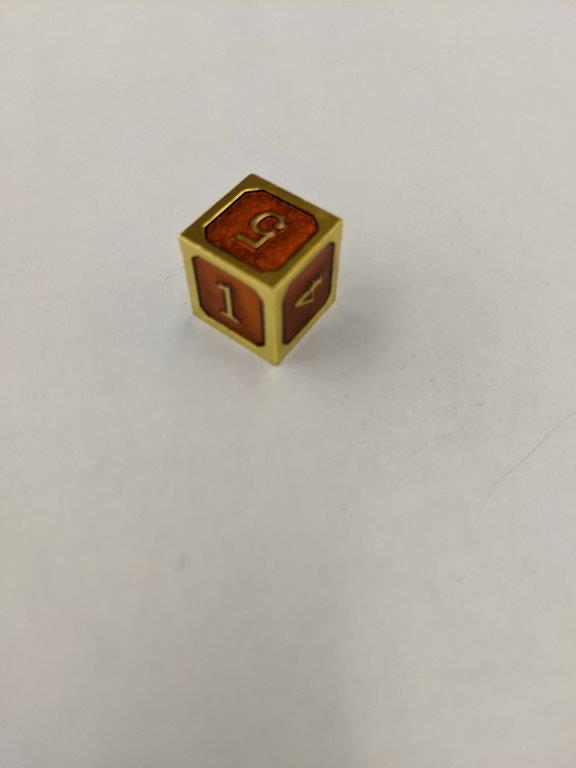d6-5: (181, 171, 343, 367)
